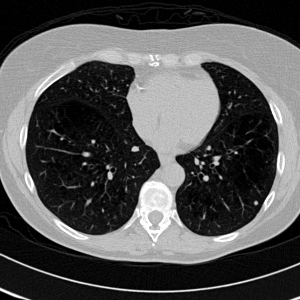nodule: (254, 201, 258, 205)
